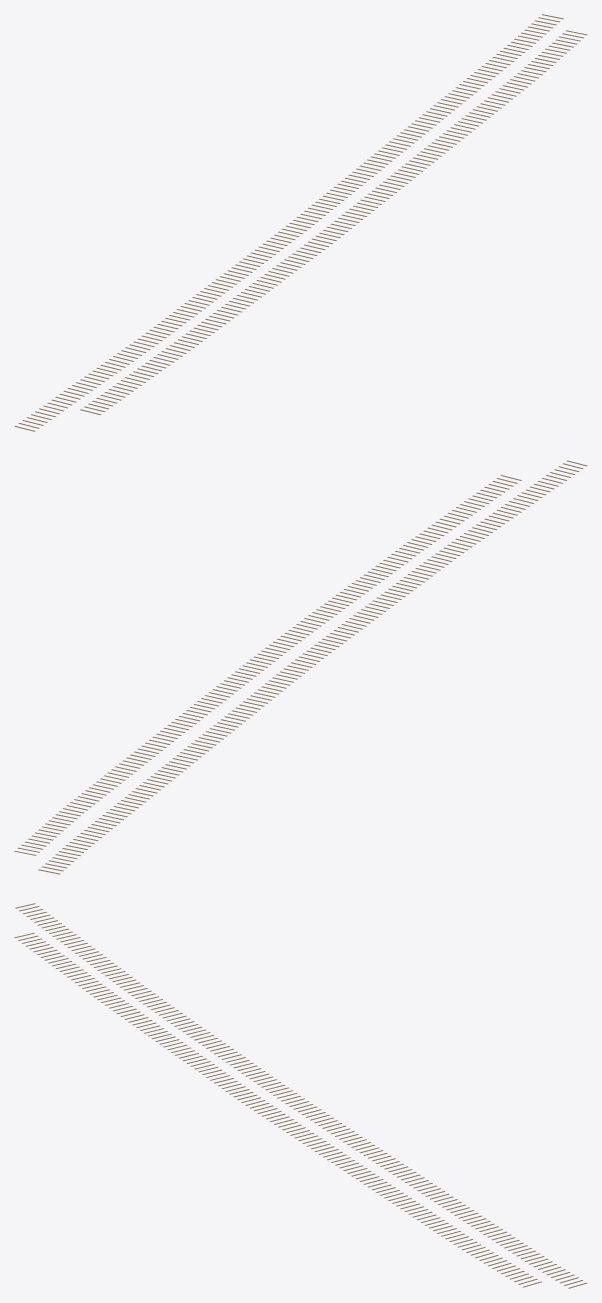
File: c_1627_17834_rail_sleeper.glb
3 renders of one model, top to bottom at view 1: azimuth 30°, elevation 25°; view 2: azimuth 210°, elevation 25°; view 3: azimuth 270°, elevation 25°, orthographic. The views are drawn at different scales.
Parts seen in each view (by area): view 1: geometry_0; view 2: geometry_0; view 3: geometry_0.
Part boxes in pixels (left/top/right/bottom): geometry_0: left=14, top=14, right=587, bottom=431; geometry_0: left=14, top=460, right=587, bottom=874; geometry_0: left=14, top=903, right=587, bottom=1288.
Bounding box in the file's own units: 95.57 × 0.34 × 59.84.
